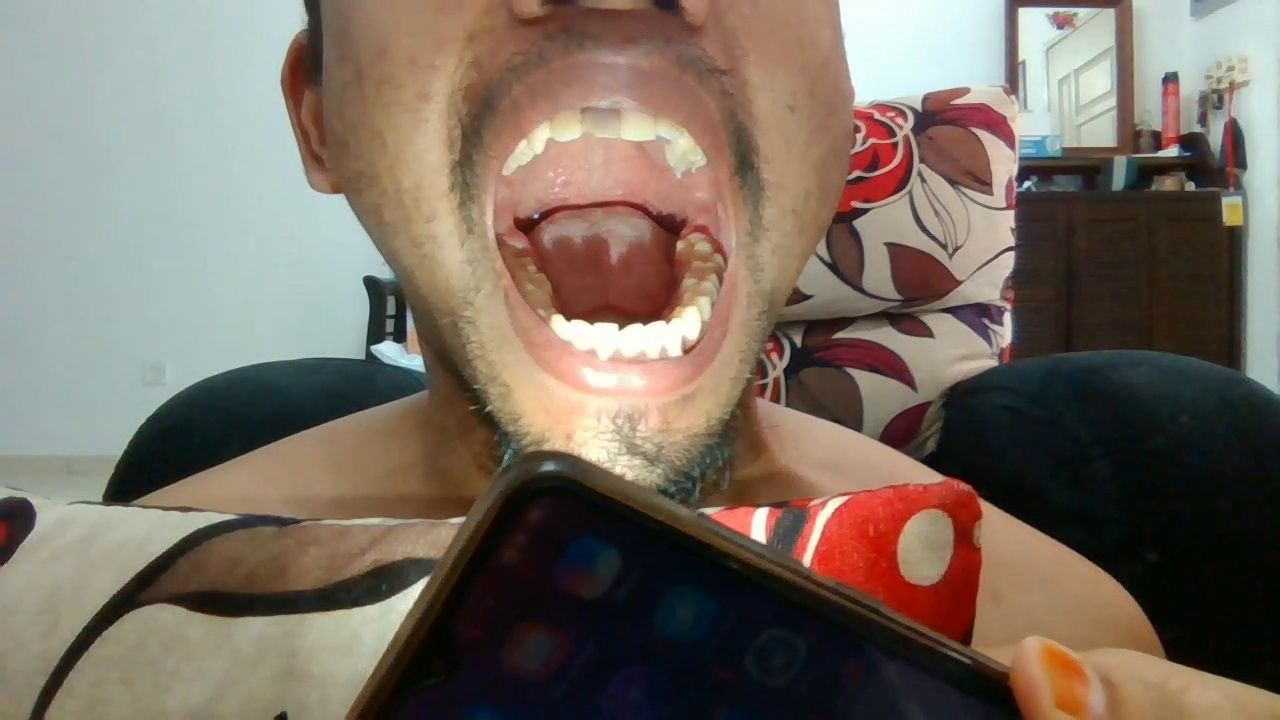1st Molar: (680, 273, 718, 297), (514, 273, 553, 296)
1st Premolar: (674, 306, 701, 340)
2nd Molar: (687, 253, 728, 273), (507, 255, 538, 273)
2nd Premolar: (682, 290, 710, 320)
3rd Molar: (674, 233, 711, 256), (500, 244, 526, 258)
Canine: (668, 316, 686, 358), (528, 122, 551, 154), (550, 313, 569, 342)
Central Incisor: (580, 106, 621, 139), (621, 109, 657, 142), (618, 319, 645, 360), (593, 321, 619, 360)
Lateral Incisor: (549, 112, 581, 144), (645, 319, 668, 360), (657, 113, 684, 142), (570, 319, 593, 352)
